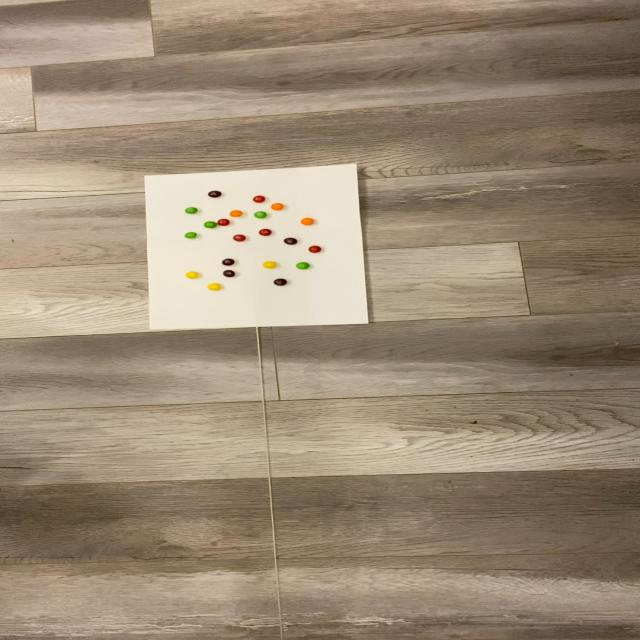smartie: (299, 217, 315, 225), (206, 190, 221, 198), (184, 271, 199, 279), (295, 262, 310, 270), (206, 283, 220, 291), (252, 211, 267, 218), (273, 278, 286, 286), (221, 258, 234, 266), (216, 218, 229, 226), (258, 228, 271, 236), (308, 245, 321, 253), (283, 237, 297, 244), (262, 261, 276, 268), (222, 270, 235, 277), (203, 221, 216, 228), (232, 234, 245, 241), (252, 195, 265, 202), (228, 210, 241, 217), (270, 203, 283, 210), (184, 207, 196, 214), (183, 232, 196, 238)
